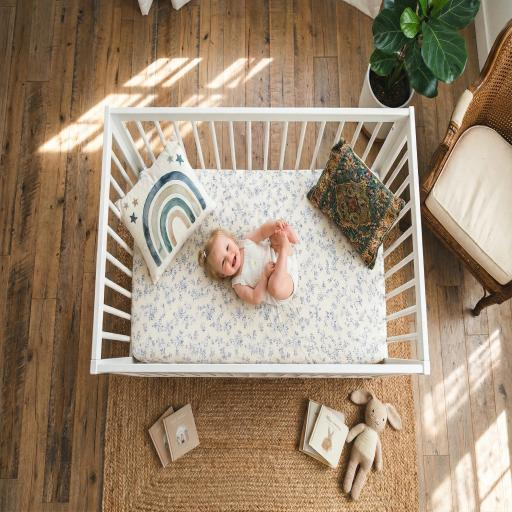baby: (199, 220, 298, 305)
crib: (109, 131, 418, 364)
